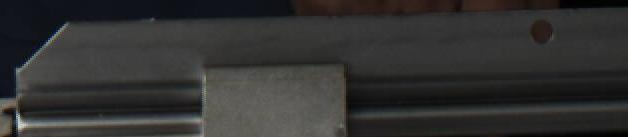cut: (13, 14, 181, 137)
holes: (527, 17, 555, 45)
